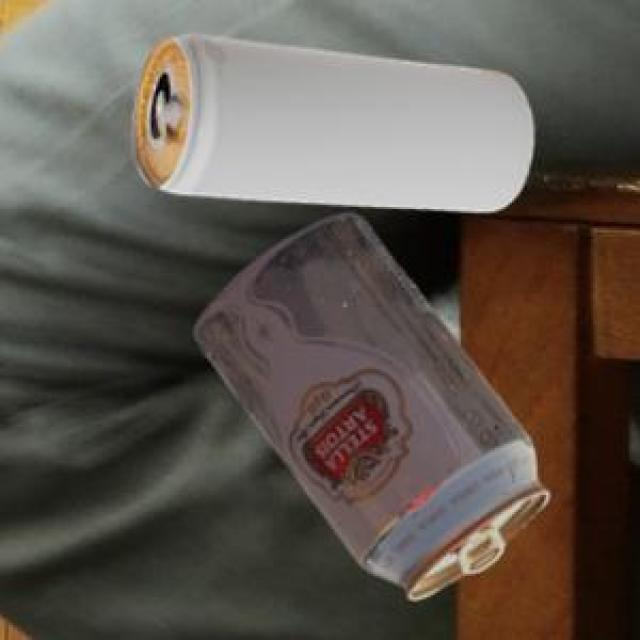logam: (189, 210, 545, 596), (129, 31, 530, 208)
